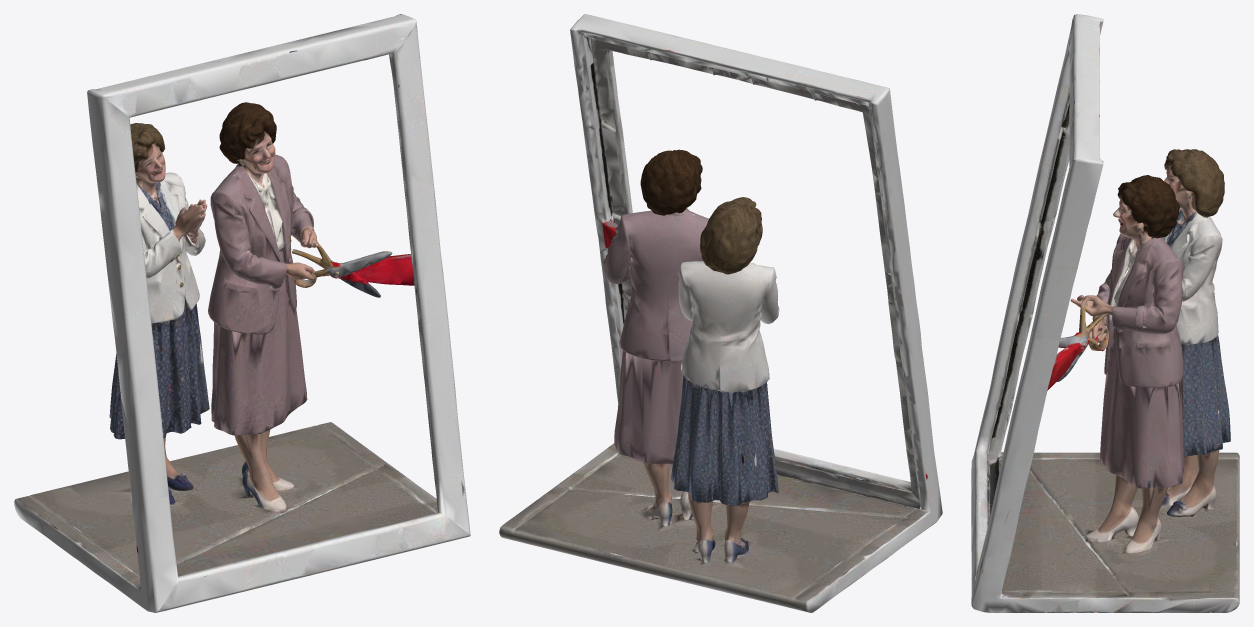
Rendered from photo.glb.
3 views of the same model, side by side, from view 1: azimuth 30°, elevation 25°; view 2: azimuth 150°, elevation 25°; view 3: azimuth 270°, elevation 25° (orthographic). The views are drawn at different scales.
Size of the model in its own units: 1.31 by 1.9 by 1.02.
Materials: 1 (1 with a texture image).
